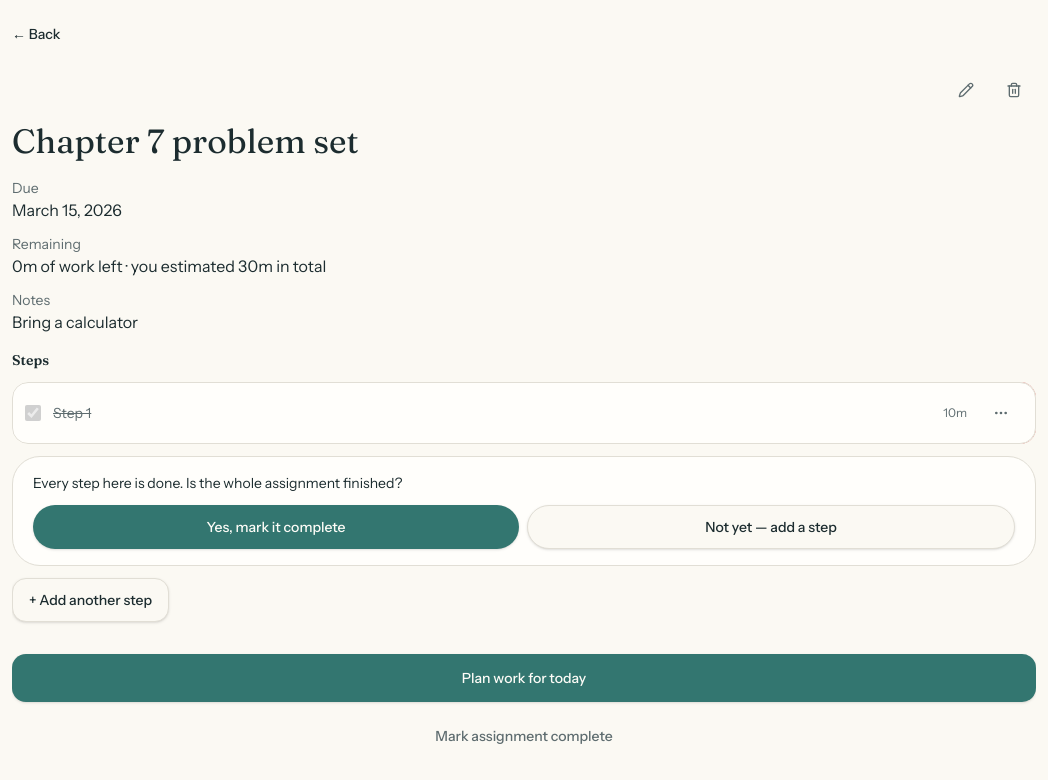
Test: AssignmentDetailPage › Inline step management (docs/features/assignment-detail-cta-hierarchy.md item 3b) › never offers inline editing for a completed step
The width and height of the screenshot is (1048, 780).
Expected: the text "Step 1" is shown, [53,404,91,422]
A completed step's row menu offers Delete but not Edit.
What coordinates should you click on to do the following:
click the button named "More actions for Step 1"
I would click on:
 (1001, 413)
Its box is [979,391,1023,435].
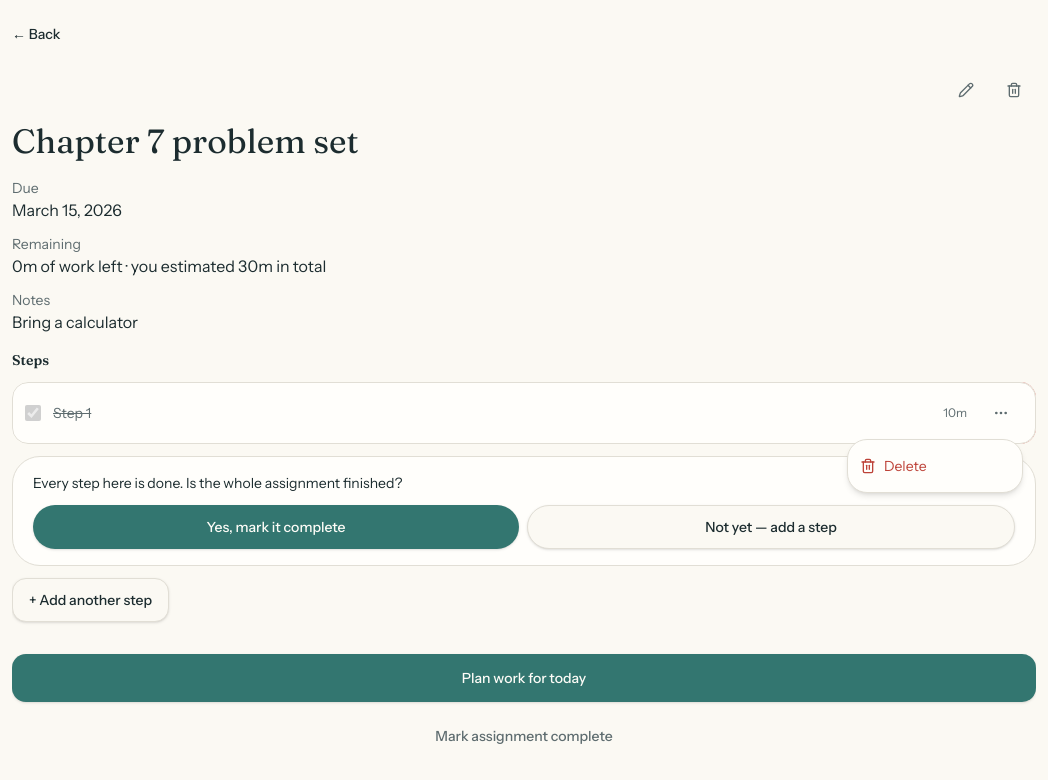
Expected: the menu item "Delete" is shown, [860,457,927,475]
